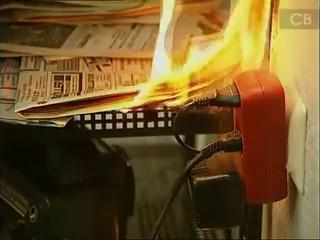Fire: (126, 2, 279, 108)
